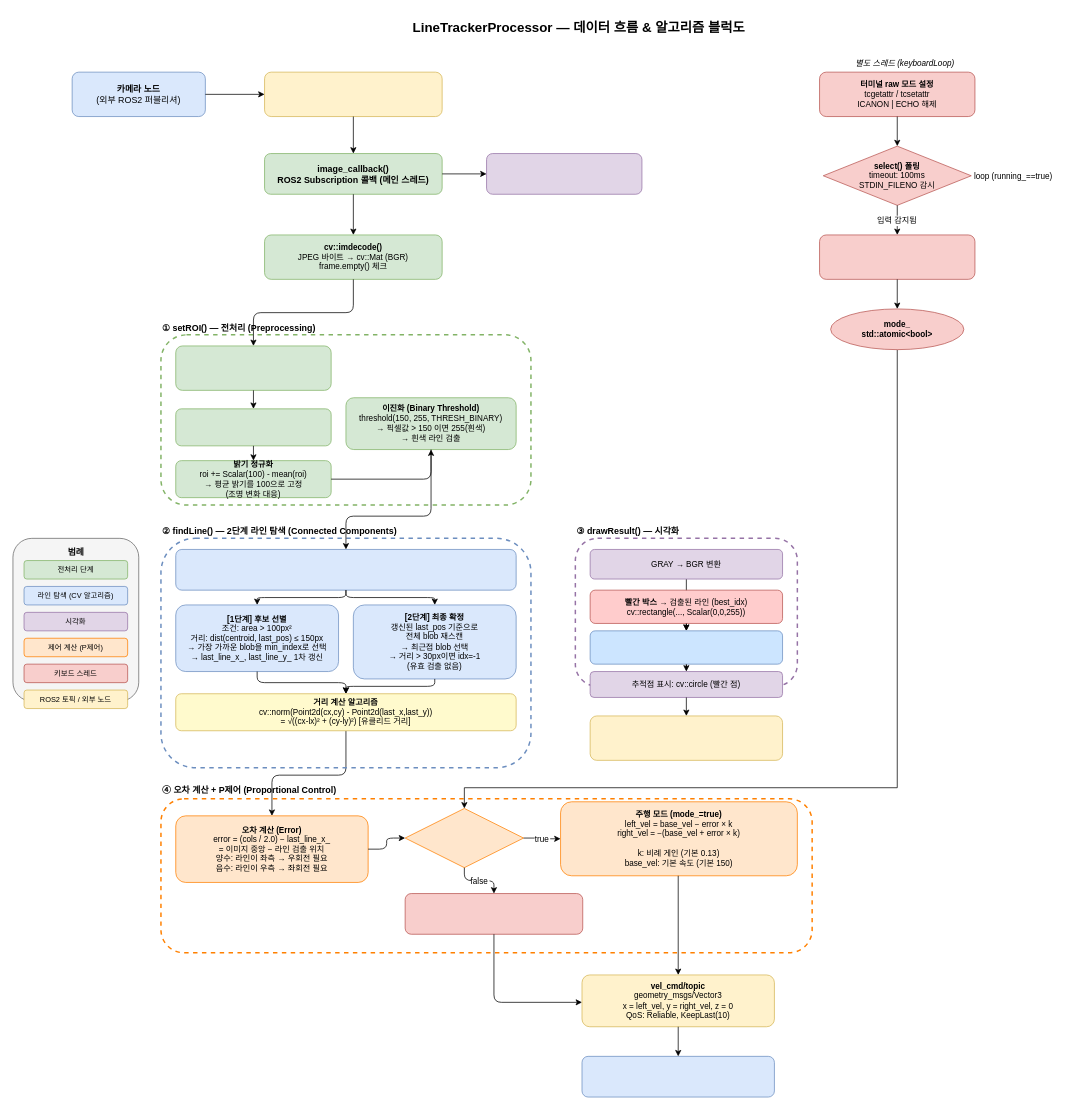
Some shapes in this 1066 by 1110 pixel diagram are drawn without their labels. Here are the shapes that lost their labels. From the top down, the centre of each, then its label:
point 353,94: image/topic sensor_msgs/CompressedImage QoS: best_effort, KeepLast(10)
point 564,173: 파라미터 갱신 k_ = get_parameter("k") base_vel_ = get_parameter("base_vel")
point 897,256: 키 판정 's' → mode_ = true (주행) 'q' → mode_ = false (정지)
point 253,367: ROI 크롭 Rect(0, rows×3/4, cols, rows/4) → 하단 1/4 영역만 사용
point 253,427: 그레이스케일 변환 cv::cvtColor(BGR → GRAY)
point 345,569: connectedComponentsWithStats() 이진 영상에서 연결된 흰색 픽셀 그룹(blob) 각 blob의 면적, 위치, 중심점 반환
point 686,647: 파란 박스 → 노이즈 blob cv::rectangle(..., Scalar(255,0,0))
point 686,737: OpenCV 창 표시 imshow("1. Raw Video", frame) imshow("2. Binary Debug", display)
point 464,838: mode_ 확인 (atomic<bool>)
point 493,913: 정지 모드 (mode_=false) left_vel = 0, right_vel = 0
point 677,1076: 모터 제어 노드 (dxl_wsl 등 외부 수신자)
